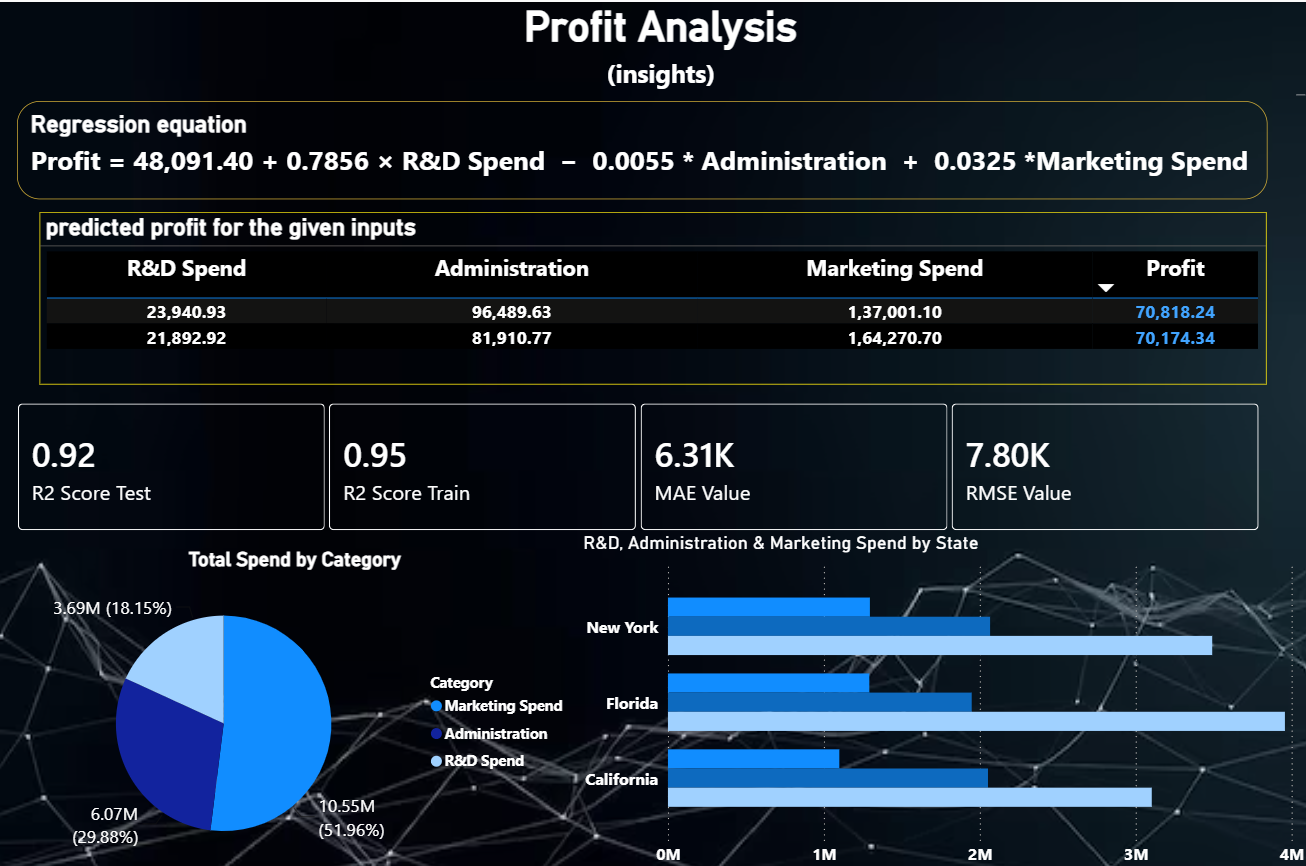

Layout of this report page (visuals, bound fields, positions):
{"tool":"powerbi","page":{"name":"Page 2","canvas":[1200,800],"ordinal":1},"visuals":[{"type":"textbox","title":"Profit Analysis","box":[10.5,0,1189.5,90.1],"z":0},{"type":"pieChart","title":" Total Spend by Category","fields":{"Category":["Spend Distribution.Category"],"Y":["Sum(Spend Distribution.Total Spend)"]},"box":[10.5,500.1,519.7,300.4],"z":1000},{"type":"clusteredBarChart","title":"R&D, Administration & Marketing Spend by State","fields":{"Category":["profit_prediction_output.State"],"Y":["profit_prediction_output.total RD_spend","profit_prediction_output.total Ad_spend","profit_prediction_output.total Mar_Spend"]},"box":[530.2,485.1,669.9,315.4],"z":2000},{"type":"tableEx","title":"predicted profit  for the given inputs","fields":{"Values":["Input Predictions.R&D Spend","Input Predictions.Administration","Input Predictions.Marketing Spend","Input Predictions.Profit"]},"box":[37.5,192.2,1123.4,157.7],"z":3000},{"type":"textbox","title":"Multi linear Regression equation","box":[16.5,90.1,1144.5,90.1],"z":4000},{"type":"cardVisual","fields":{"Data":["Input Predictions.R2 Score Test","Input Predictions.R2 Score Train","Input Predictions.MAE Value","Input Predictions.RMSE Value"]},"box":[0,349.9,1171.5,150.2],"z":5000}]}

Visuals, with their boxes in screenshot pixels (x1, y1, x2, y2), scaled from the page's 1200x800 canvas onto the 1306x866 screenshot:
"Profit Analysis" textbox: region(11, 0, 1305, 98)
" Total Spend by Category" pieChart: region(11, 541, 577, 865)
"R&D, Administration & Marketing Spend by State" clusteredBarChart: region(577, 525, 1305, 865)
"predicted profit  for the given inputs" tableEx: region(41, 208, 1263, 379)
"Multi linear Regression equation" textbox: region(18, 98, 1264, 195)
cardVisual - Input Predictions.R2 Score Test x Input Predictions.R2 Score Train: region(0, 379, 1275, 541)
